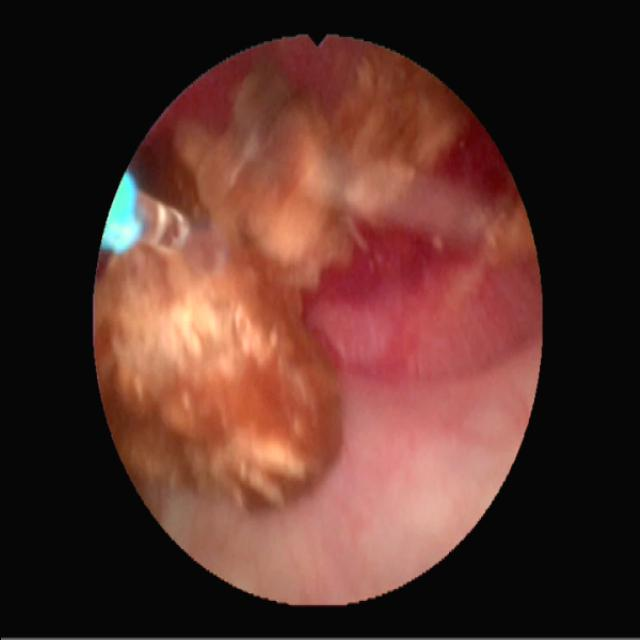fiber: (103, 175, 136, 251)
stone: (95, 60, 464, 509)
tissue: (159, 138, 535, 598)
